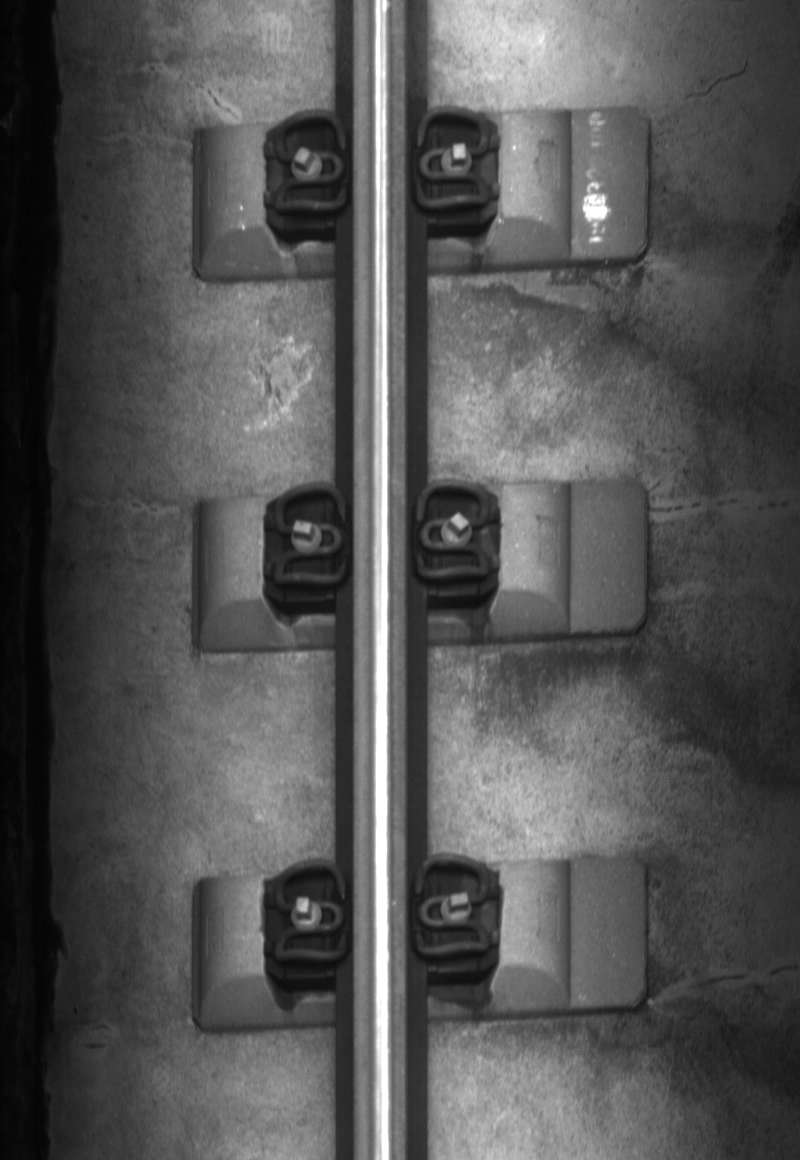l_faster: (266, 477, 352, 594), (267, 856, 352, 972), (268, 107, 352, 220)
r_faster: (410, 848, 495, 965), (411, 103, 496, 218), (412, 477, 493, 586)
